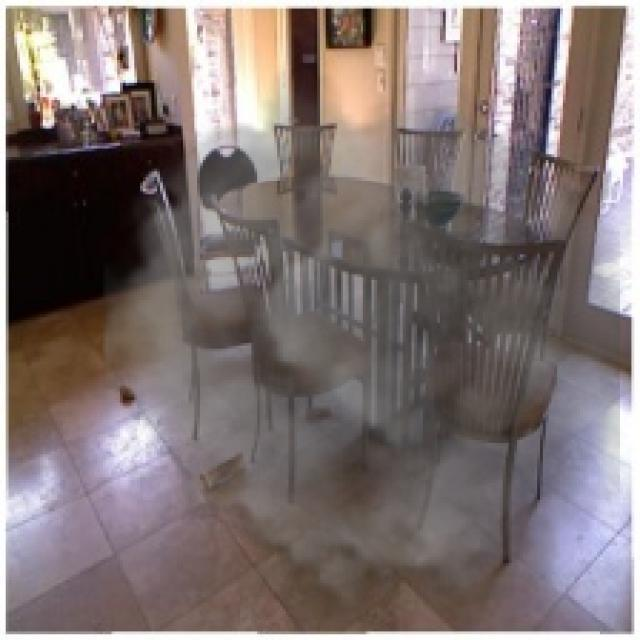Smoke: (103, 63, 620, 626)
